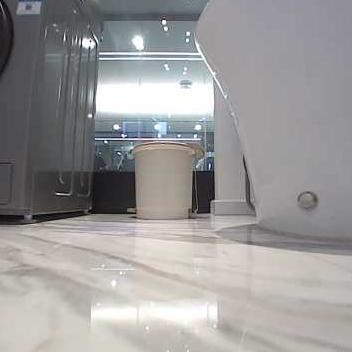toilet: (193, 2, 351, 245)
trash_can: (128, 135, 203, 219)
washing_machine1: (0, 0, 104, 222)
